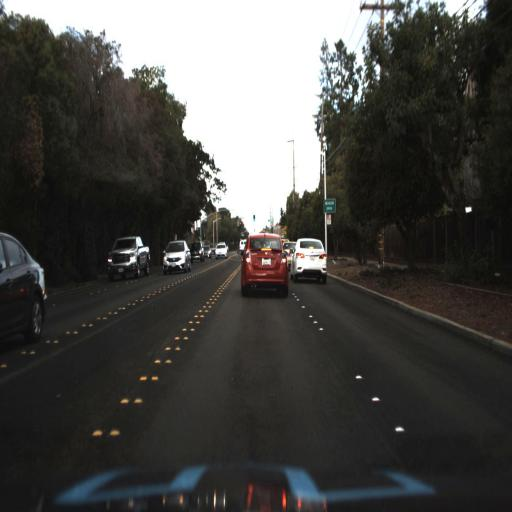car: (0, 227, 48, 358), (240, 230, 291, 298), (102, 230, 152, 282), (106, 235, 152, 283), (291, 237, 329, 282), (158, 235, 191, 274), (163, 239, 192, 270), (188, 239, 206, 265), (213, 242, 231, 260)
